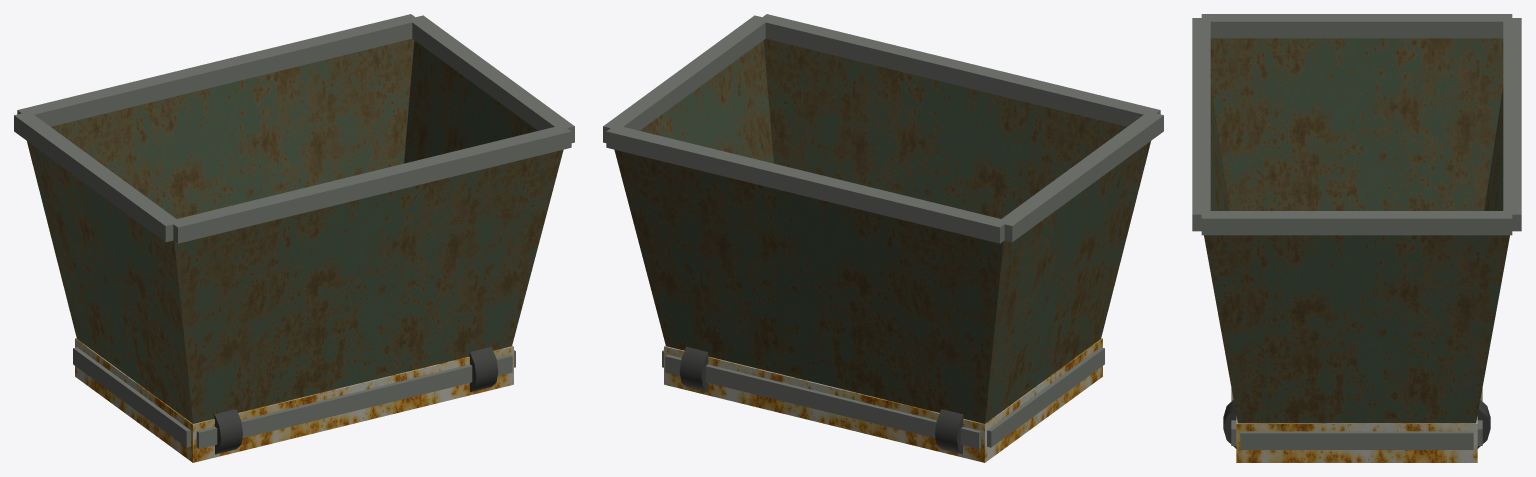
The model's file is waste_container.glb.
3 views of the same model, side by side, from view 1: azimuth 30°, elevation 25°; view 2: azimuth 150°, elevation 25°; view 3: azimuth 270°, elevation 25° (orthographic). The views are drawn at different scales.
Parts seen in each view (by area): view 1: Open_top_tapered_bin_walls_separate, Container_rim_and_base_separate, Container_floor_separate, Container_wheel_0.7_-0.5, Container_wheel_-0.7_-0.5; view 2: Open_top_tapered_bin_walls_separate, Container_rim_and_base_separate, Container_floor_separate, Container_wheel_0.7_0.5, Container_wheel_-0.7_0.5; view 3: Open_top_tapered_bin_walls_separate, Container_rim_and_base_separate, Container_floor_separate, Container_wheel_0.7_-0.5, Container_wheel_0.7_0.5.
Part boxes in pixels (bbox=[...]): Open_top_tapered_bin_walls_separate: bbox=[27, 38, 563, 423]; Container_rim_and_base_separate: bbox=[14, 14, 574, 448]; Container_floor_separate: bbox=[75, 338, 513, 462]; Container_wheel_0.7_-0.5: bbox=[469, 347, 498, 392]; Container_wheel_-0.7_-0.5: bbox=[214, 409, 242, 454]; Open_top_tapered_bin_walls_separate: bbox=[614, 38, 1150, 423]; Container_rim_and_base_separate: bbox=[603, 14, 1163, 448]; Container_floor_separate: bbox=[664, 338, 1102, 462]; Container_wheel_0.7_0.5: bbox=[679, 347, 708, 392]; Container_wheel_-0.7_0.5: bbox=[935, 409, 963, 454]; Open_top_tapered_bin_walls_separate: bbox=[1204, 38, 1509, 423]; Container_rim_and_base_separate: bbox=[1192, 14, 1521, 449]; Container_floor_separate: bbox=[1236, 416, 1477, 462]; Container_wheel_0.7_-0.5: bbox=[1223, 400, 1236, 448]; Container_wheel_0.7_0.5: bbox=[1477, 400, 1490, 448].
Bounding box in the file's own units: 2.25 × 1.36 × 1.53.
Materials: 4 (2 with a texture image).
